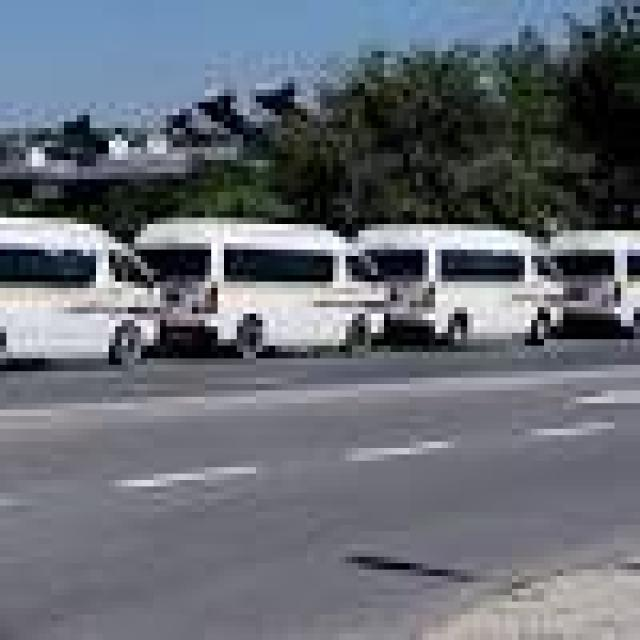MiniBus taxi: (128, 198, 390, 372), (352, 205, 576, 371), (7, 218, 166, 378)
